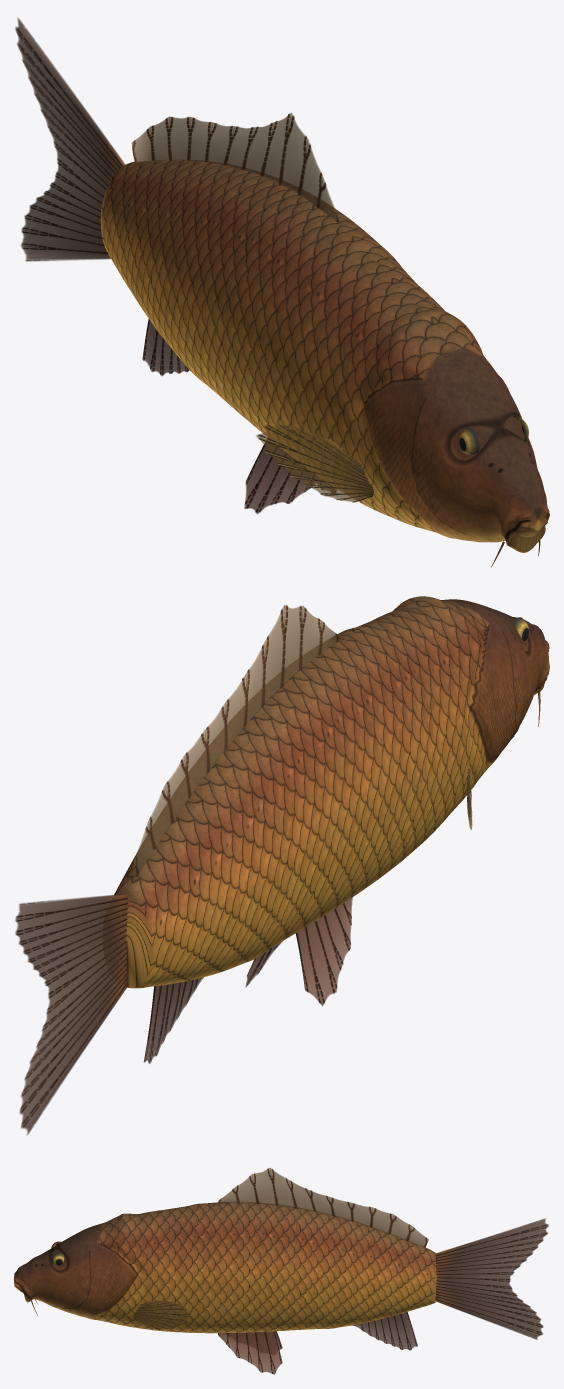
The model's file is karp.glb.
3 views of the same model, one above another, from view 1: azimuth 30°, elevation 25°; view 2: azimuth 150°, elevation 25°; view 3: azimuth 270°, elevation 25° (orthographic). The views are drawn at different scales.
Visible parts, largest first — view 1: Body, FinCaudal, FinDorsal1, FinPectoral, FinPelvic, FinAnal; view 2: Body, FinCaudal, FinDorsal1, FinPelvic, FinAnal; view 3: Body, FinCaudal, FinDorsal1, FinPelvic, FinAnal, FinPectoral.
Part boxes in pixels (left/top/right/bottom): Body: left=100, top=160, right=549, bottom=552; FinCaudal: left=15, top=18, right=125, bottom=261; FinDorsal1: left=131, top=112, right=338, bottom=222; FinPectoral: left=256, top=424, right=373, bottom=502; FinPelvic: left=244, top=439, right=336, bottom=513; FinAnal: left=142, top=319, right=189, bottom=375; Body: left=114, top=596, right=549, bottom=988; FinCaudal: left=15, top=894, right=127, bottom=1134; FinDorsal1: left=133, top=605, right=339, bottom=875; FinPelvic: left=245, top=897, right=352, bottom=1006; FinAnal: left=144, top=977, right=203, bottom=1063; Body: left=14, top=1202, right=436, bottom=1333; FinCaudal: left=435, top=1218, right=548, bottom=1339; FinDorsal1: left=218, top=1168, right=428, bottom=1247; FinPelvic: left=218, top=1331, right=282, bottom=1374; FinAnal: left=352, top=1312, right=417, bottom=1350; FinPectoral: left=133, top=1300, right=191, bottom=1329.
Bounding box in the file's own units: 0.2383 × 0.4101 × 0.9994.
9 materials, 8 textured.
